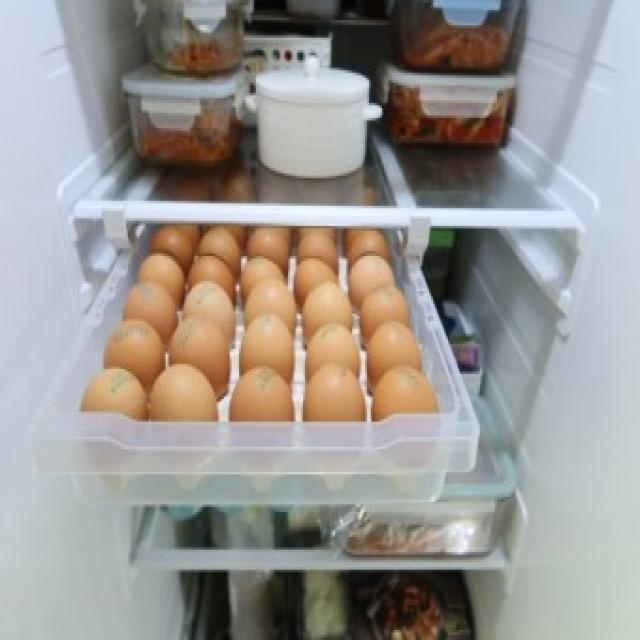eggs: (144, 361, 218, 425), (76, 366, 152, 428), (369, 361, 442, 425), (164, 314, 223, 386), (229, 369, 297, 426), (304, 368, 367, 424), (102, 319, 160, 378), (182, 276, 235, 338), (240, 318, 292, 380), (124, 275, 176, 333), (301, 282, 354, 338), (368, 320, 420, 377), (304, 323, 359, 371), (246, 285, 296, 336), (344, 253, 398, 300), (359, 287, 408, 335), (289, 258, 341, 297), (133, 252, 186, 290), (185, 253, 232, 290), (237, 257, 285, 293)
